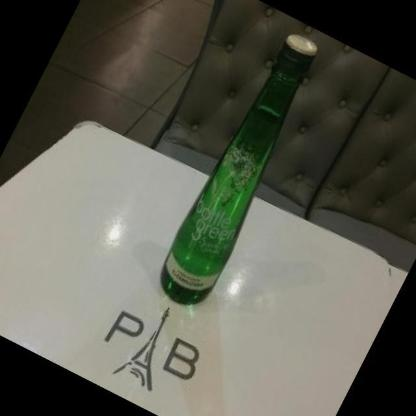Glass Bottle: (157, 34, 317, 304)
